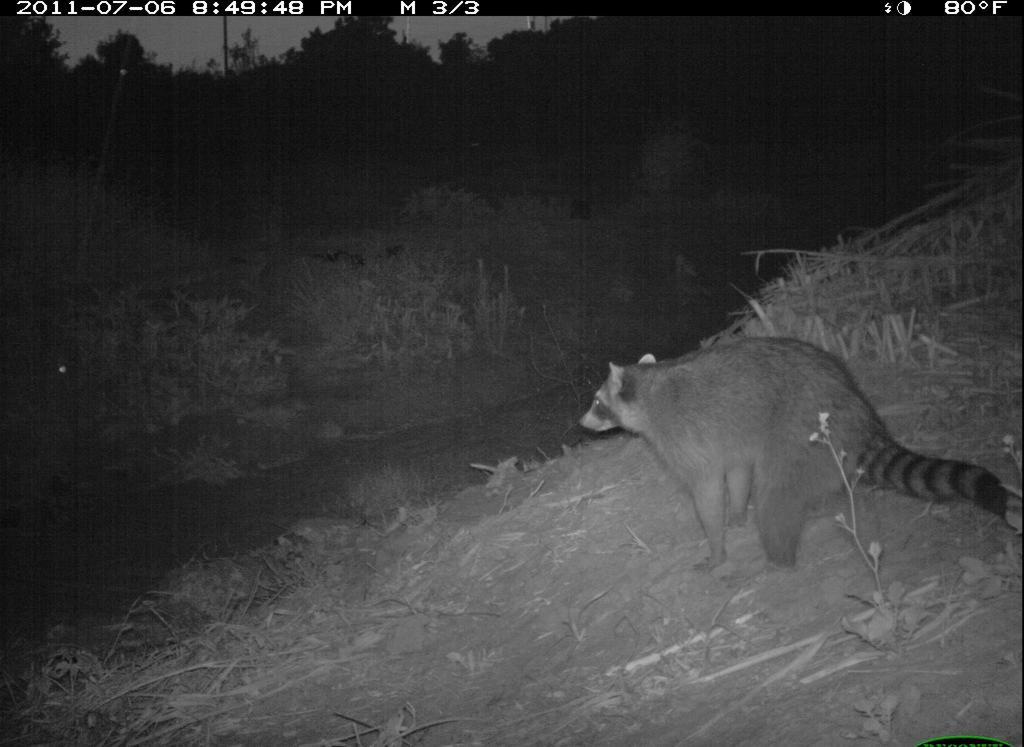raccoon: (568, 331, 1009, 573)
